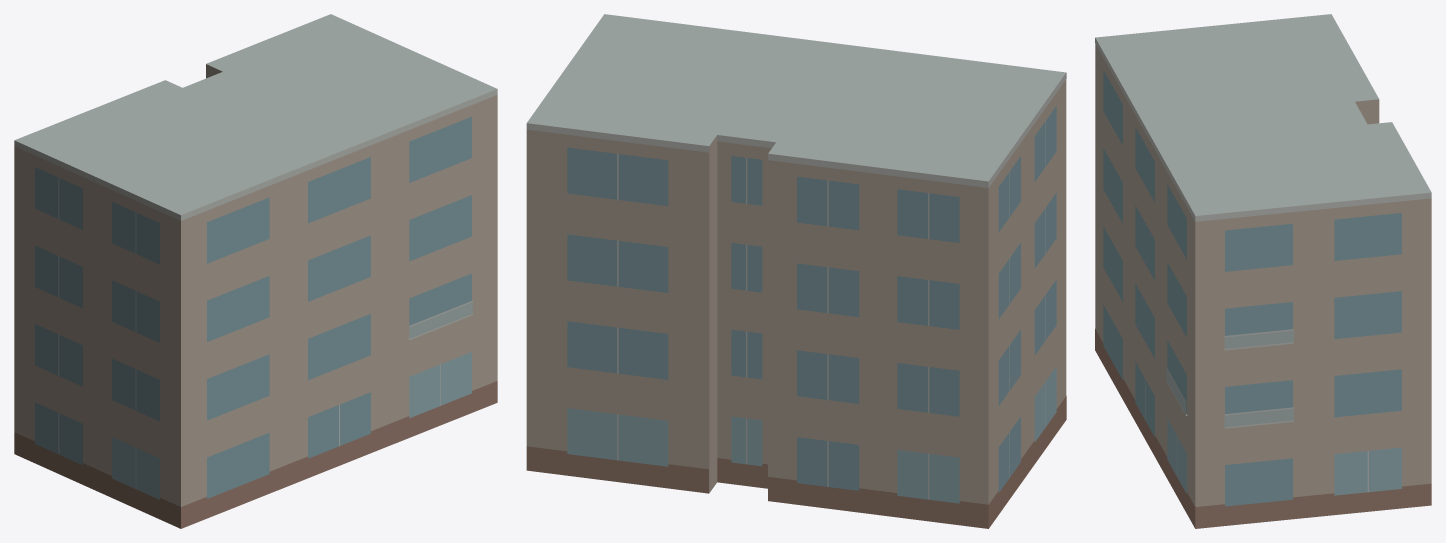
File: survey-upis-32695271.glb
3 views of the same model, side by side, from view 1: azimuth 30°, elevation 25°; view 2: azimuth 150°, elevation 25°; view 3: azimuth 270°, elevation 25° (orthographic). The views are drawn at different scales.
Parts seen in each view (by area): view 1: survey-upis-32695271.tmp; view 2: survey-upis-32695271.tmp; view 3: survey-upis-32695271.tmp.
Boxes of the visible parts, x1,y1,x2,y2 form: survey-upis-32695271.tmp: [14, 14, 497, 528]; survey-upis-32695271.tmp: [526, 14, 1066, 528]; survey-upis-32695271.tmp: [1095, 14, 1431, 528].
Bounding box in the file's own units: 18.34 × 13.23 × 12.91.
